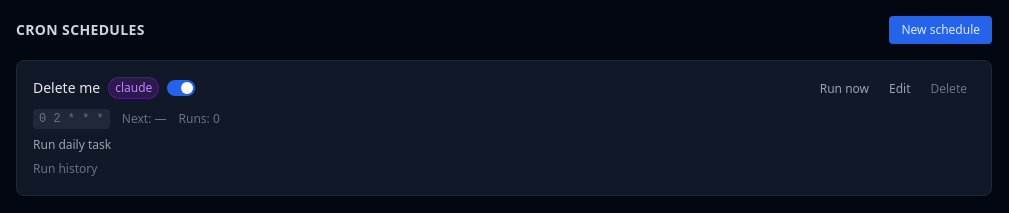
Test: CronPage › removes schedule from list when Yes is clicked on delete confirmation
This screenshot has width=1009, height=213.
Expected: the text "Delete me" is shown, [33,78,100,98]
Click the button "Delete": point(949, 89) [922,77,975,101]
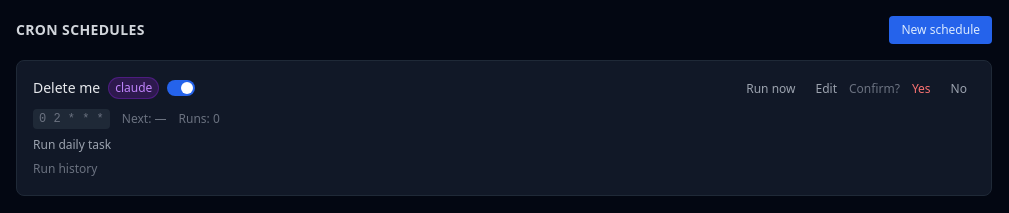
Click the button "Yes": point(921, 89) [904,77,939,101]
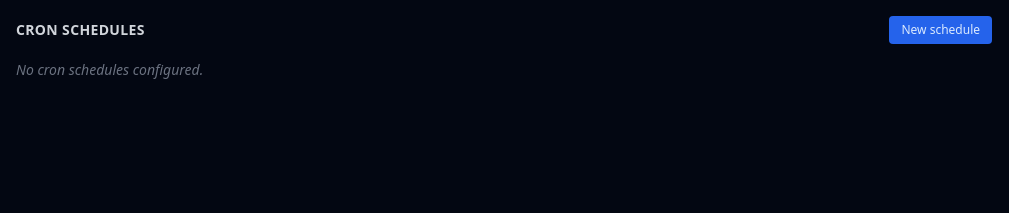
Expected: the text "Delete me" is gone
